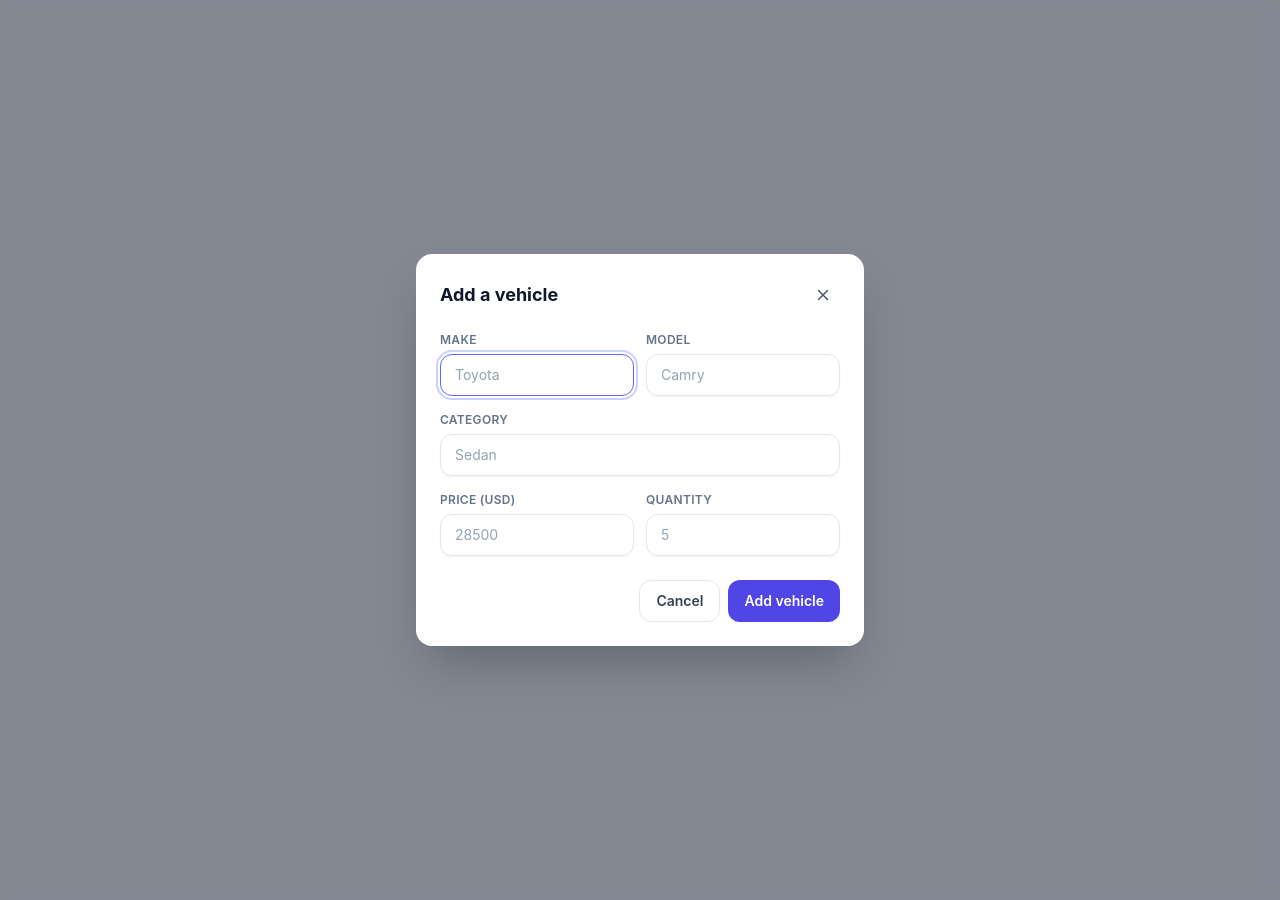
Test: <VehicleFormModal /> › shows validation errors and does not submit an empty form
The width and height of the screenshot is (1280, 900).
Click the button "Add vehicle".
click(784, 601)  # box [728,580,840,622]
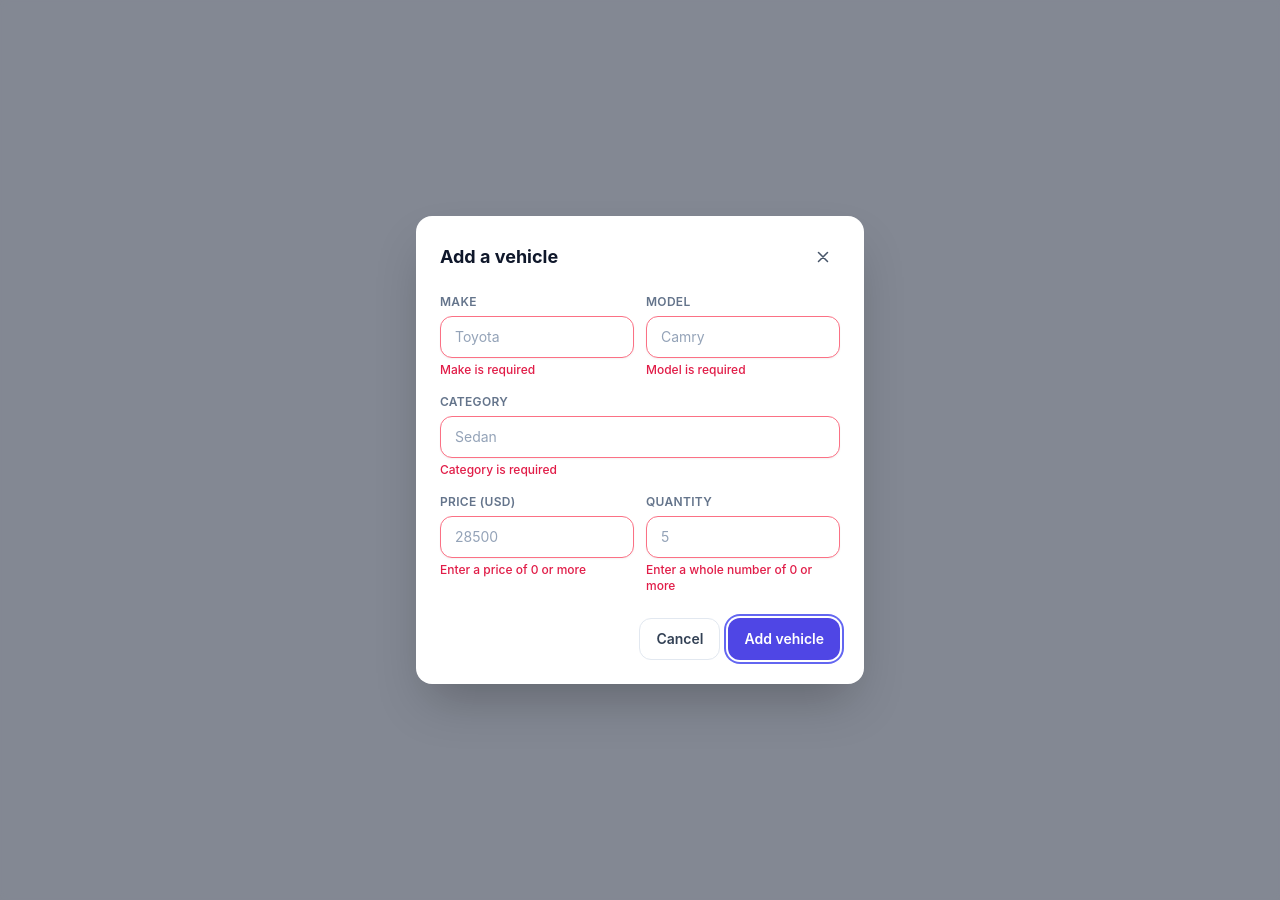
Expected: the text "Make is required" is shown, [440,362,535,377]
